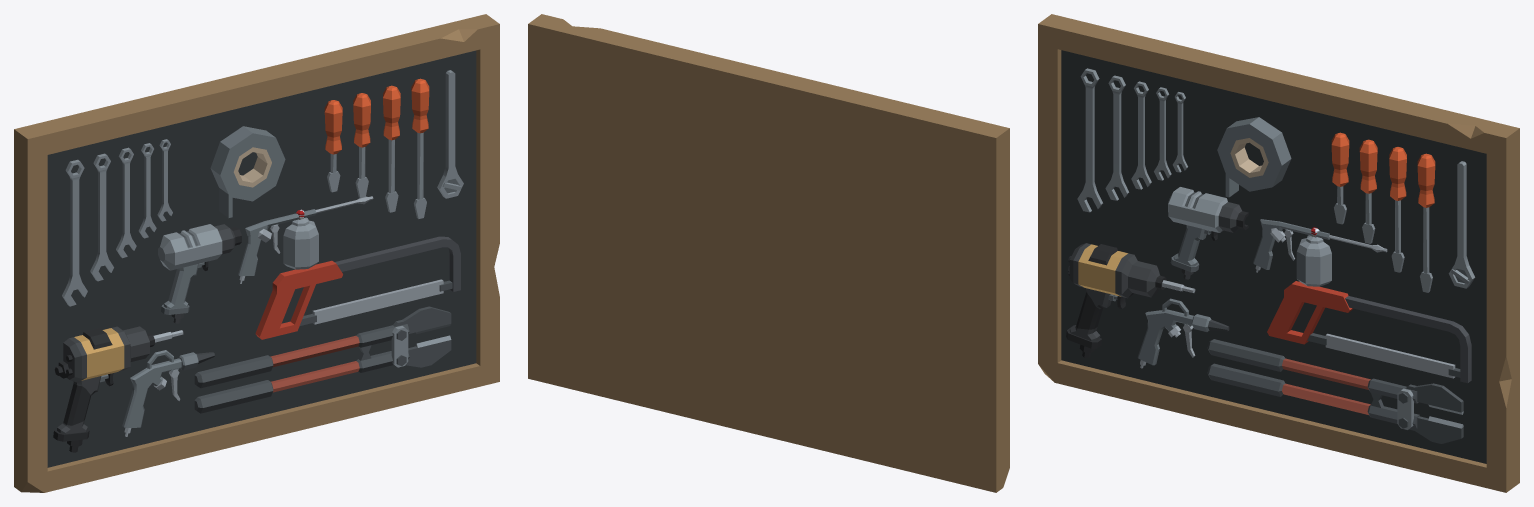
Rendered from SM_Prop_ToolWall_01.fbx.
3 renders of one model, left to right at view 1: azimuth 30°, elevation 25°; view 2: azimuth 150°, elevation 25°; view 3: azimuth 330°, elevation 25°, orthographic.
Visible parts, largest first — view 1: SM_Prop_ToolWall_01; view 2: SM_Prop_ToolWall_01; view 3: SM_Prop_ToolWall_01.
Part boxes in pixels (x1,y1,x2,y2): SM_Prop_ToolWall_01: (14, 14, 499, 492); SM_Prop_ToolWall_01: (528, 14, 1009, 492); SM_Prop_ToolWall_01: (1038, 14, 1519, 492).
Bounding box in the file's own units: 174 × 126 × 14.64.
